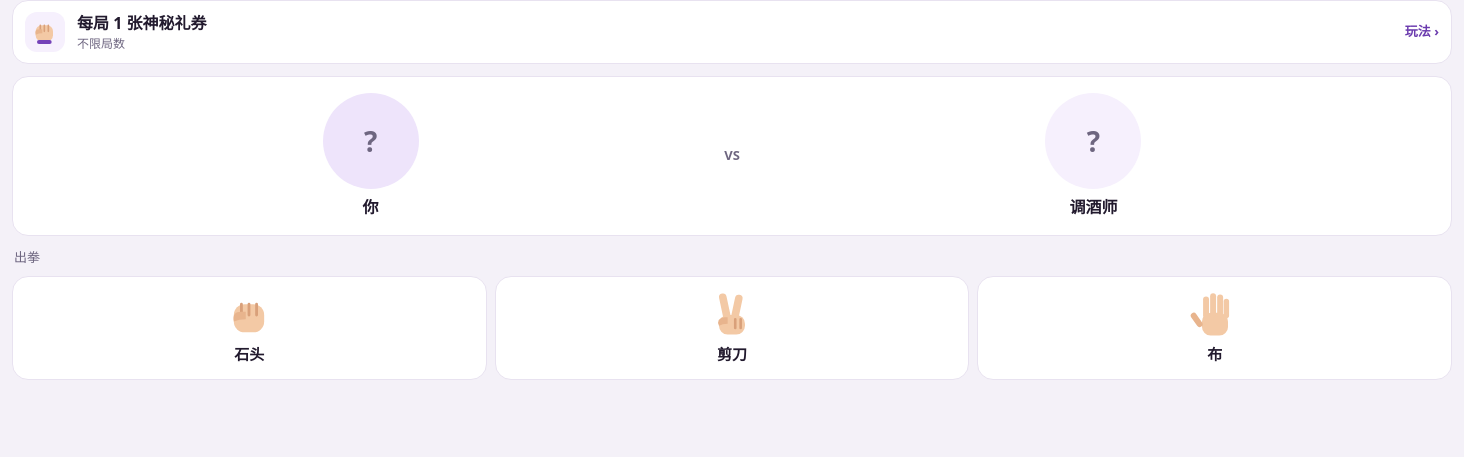
Test: FgPanel › 平局写银币；输了写对方的拳
This screenshot has width=1464, height=457.
Click the button with test id "fg-2" at (1215, 328), box [977,276,1452,380]
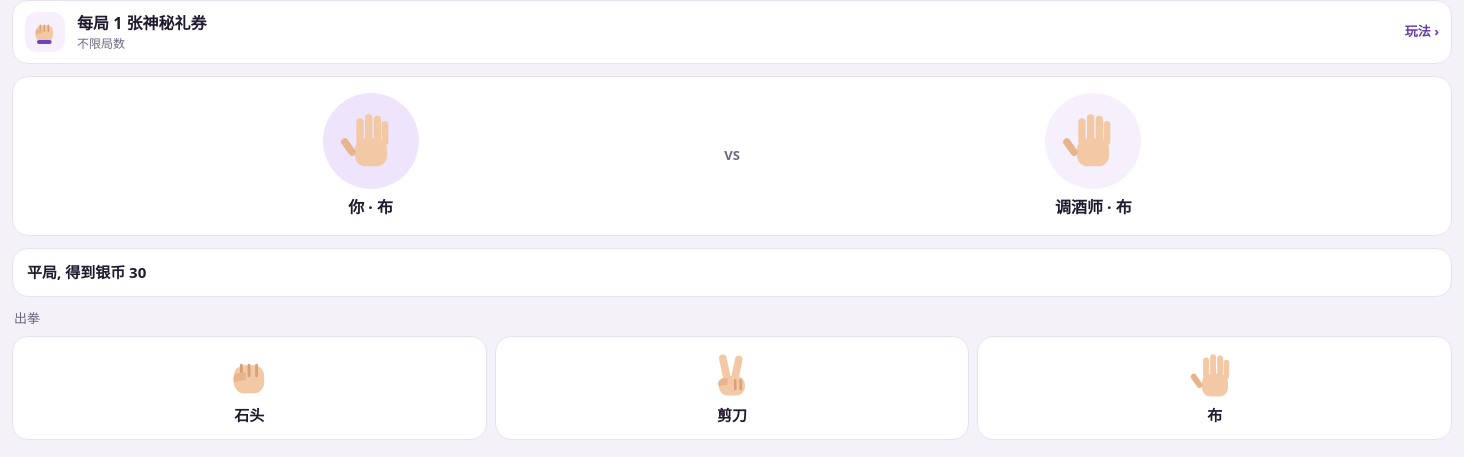
Check: the text with test id "fg-me" reads "你 · 布", box [348,196,393,218]
Check: the text with test id "fg-bar" reads "调酒师 · 布", box [1055,196,1132,218]
Check: the message with test id "fg-result" reads "平局, 得到银币 30", box [27,262,146,282]
Click the button with test id "fg-0" at (249, 388), box [12,336,487,440]
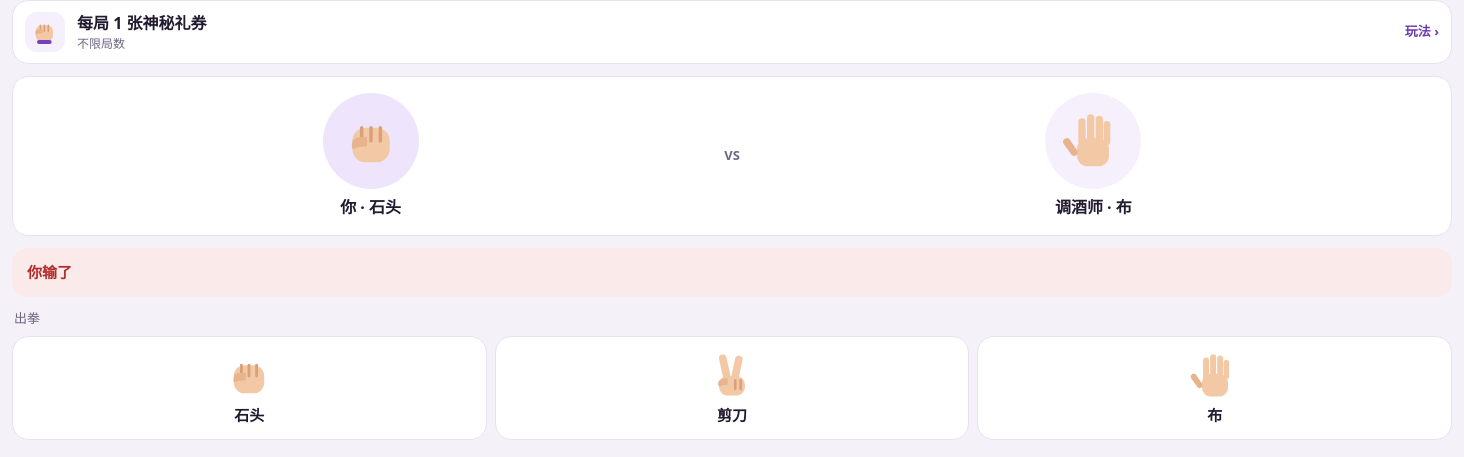
Check: the text with test id "fg-bar" reads "调酒师 · 布", box [1055,196,1132,218]
Check: the text with test id "fg-me" reads "你 · 石头", box [340,196,401,218]
Check: the message with test id "fg-result" reads "你输了", box [27,262,72,282]
